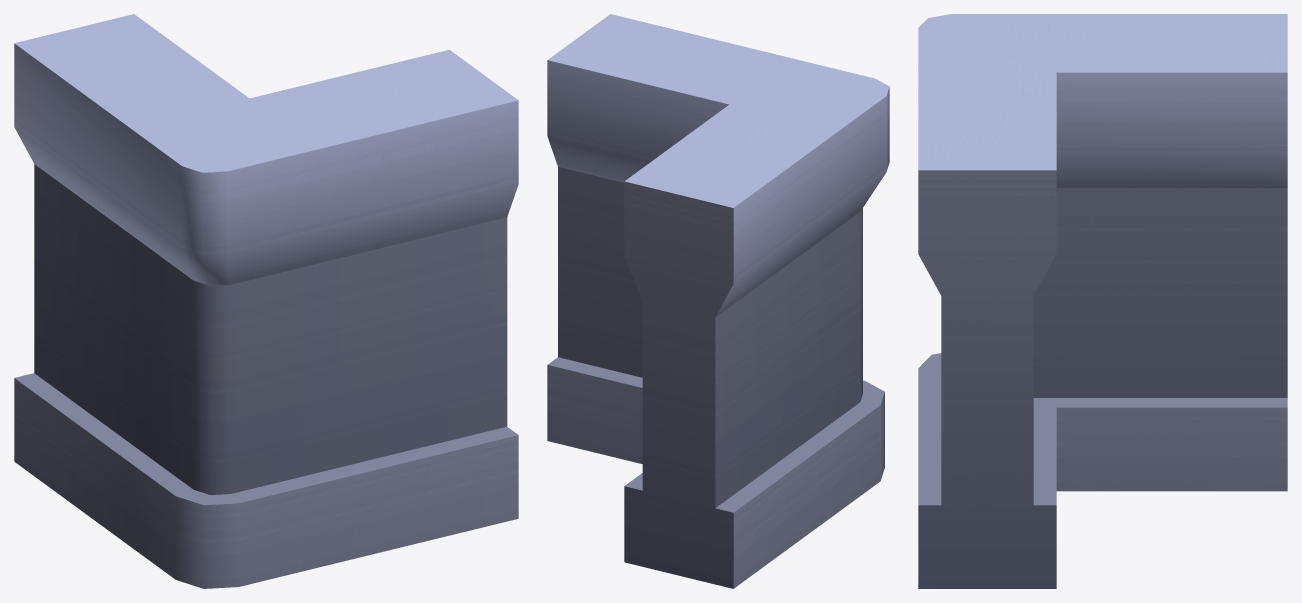
The model's file is wall-corner.glb.
3 views of the same model, side by side, from view 1: azimuth 30°, elevation 25°; view 2: azimuth 150°, elevation 25°; view 3: azimuth 270°, elevation 25° (orthographic). The views are drawn at different scales.
Visible parts, largest first — view 1: wall-corner; view 2: wall-corner; view 3: wall-corner.
Part boxes in pixels (bbox=[...]): wall-corner: bbox=[14, 14, 518, 588]; wall-corner: bbox=[547, 14, 889, 588]; wall-corner: bbox=[918, 14, 1287, 588].
Size of the model in its own units: 2.4 by 3 by 2.4.
Materials: 1 (1 with a texture image).
